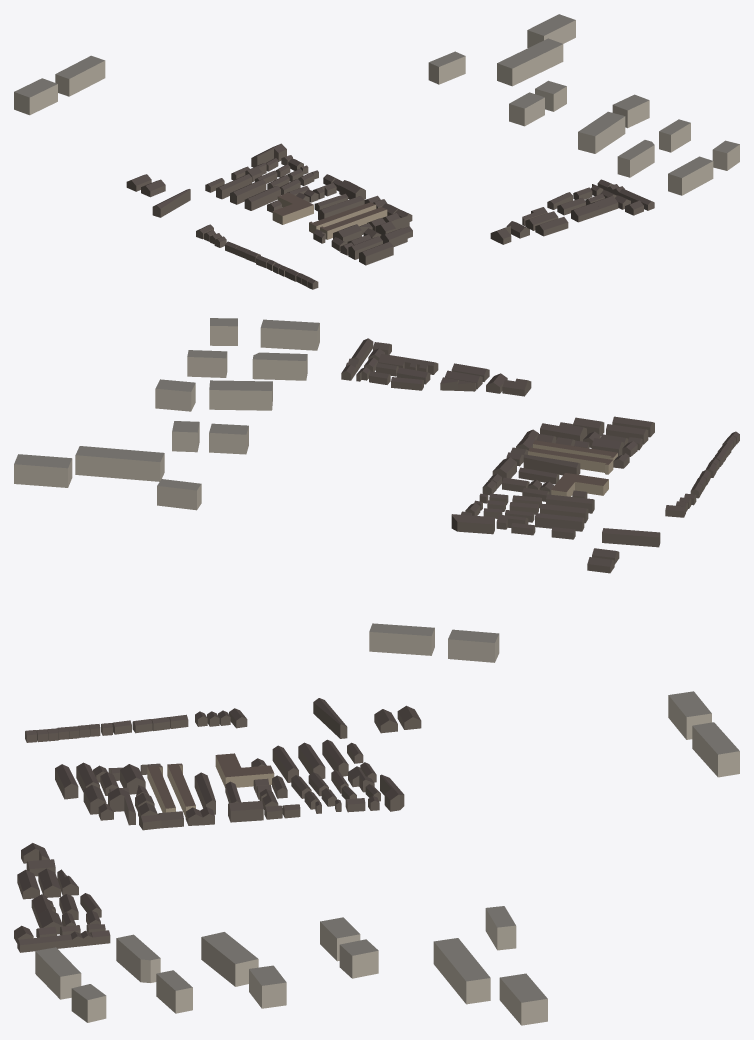
File: tile_4_5.glb
3 renders of one model, top to bottom at view 1: azimuth 30°, elevation 25°; view 2: azimuth 150°, elevation 25°; view 3: azimuth 270°, elevation 25°, orthographic. The views are drawn at different scales.
Visible parts, largest first — view 1: HP-w1286965207, HP-w1286965204, HP-w1287262151, HP-w1286965210, HP-w1287262152, HP-w1286965208, HP-w1286965214, HP-w1286965205, HP-w1286965209, HP-w1365659898, HP-w1286965200, HP-w1286965212 (+10 smaller); view 2: HP-w1286965207, HP-w1286965204, HP-w1287262151, HP-w1286965208, HP-w1286965210, HP-w1287262152, HP-w1286965214, HP-w1286965209, HP-w1286965200, HP-w1286965205, HP-w1286965212, HP-w1365659898 (+9 smaller); view 3: HP-w1286965207, HP-w1286965204, HP-w1286965208, HP-w1287262151, HP-w1286965210, HP-w1286965214, HP-w1287262152, HP-w1286965200, HP-w1286965206, HP-w1365659898, HP-w1286965212, HP-w1286965209 (+14 smaller).
Boxes of the visible parts, x1,y1,x2,y2 form: HP-w1286965207: [497, 38, 563, 86]; HP-w1286965204: [578, 111, 625, 153]; HP-w1287262151: [55, 55, 105, 96]; HP-w1286965210: [668, 156, 713, 195]; HP-w1287262152: [14, 78, 57, 115]; HP-w1286965208: [527, 14, 575, 47]; HP-w1286965214: [617, 140, 654, 177]; HP-w1286965205: [509, 92, 544, 126]; HP-w1286965209: [428, 51, 465, 84]; HP-w1365659898: [272, 192, 313, 224]; HP-w1286965200: [612, 94, 649, 128]; HP-w1286965212: [659, 119, 690, 152]; HP-w1286965207: [75, 446, 164, 481]; HP-w1286965204: [209, 380, 272, 410]; HP-w1287262151: [369, 623, 434, 655]; HP-w1286965208: [14, 454, 72, 487]; HP-w1286965210: [260, 319, 319, 350]; HP-w1287262152: [448, 629, 499, 662]; HP-w1286965214: [252, 352, 307, 380]; HP-w1286965209: [157, 479, 201, 510]; HP-w1286965200: [155, 379, 195, 411]; HP-w1286965205: [209, 423, 248, 454]; HP-w1286965212: [187, 350, 227, 377]; HP-w1365659898: [551, 473, 608, 496]; HP-w1286965207: [433, 938, 490, 1004]; HP-w1286965204: [201, 932, 258, 986]; HP-w1286965208: [499, 973, 547, 1025]; HP-w1287262151: [692, 722, 739, 777]; HP-w1286965210: [35, 947, 81, 999]; HP-w1286965214: [116, 934, 160, 982]; HP-w1287262152: [668, 691, 711, 739]; HP-w1286965200: [249, 965, 286, 1008]; HP-w1286965206: [339, 939, 378, 978]; HP-w1365659898: [215, 753, 274, 787]; HP-w1286965212: [156, 970, 192, 1013]; HP-w1286965209: [485, 906, 516, 950].
Bounding box in the file's own units: 531 × 18 × 518.
